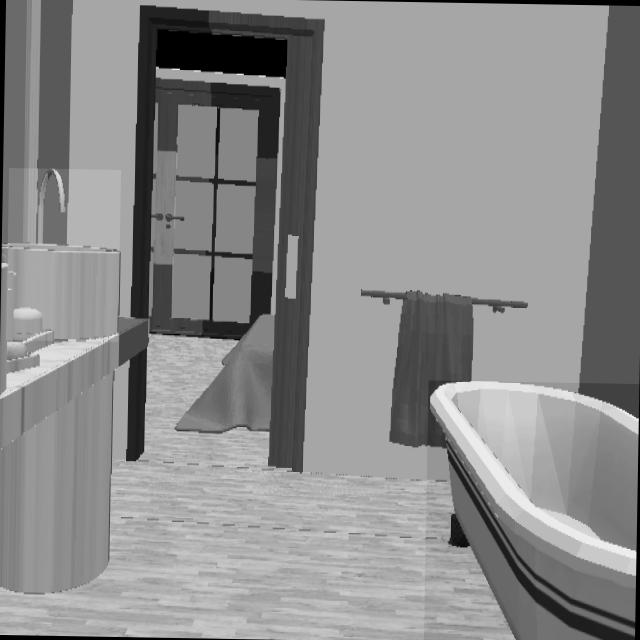bathtube: (427, 381, 638, 640)
washbasin: (7, 169, 119, 340)
